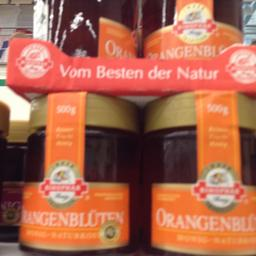honey: (140, 89, 254, 255), (23, 92, 138, 254)
